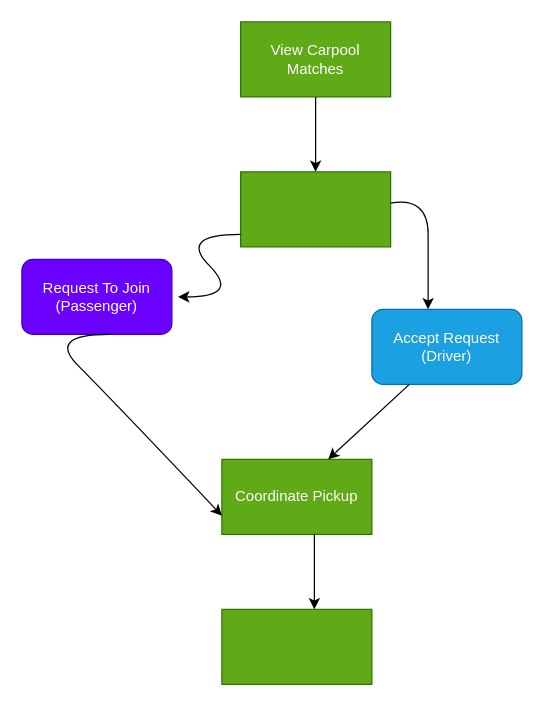
The diagram is 544 pixels wide and 706 high, and some of its shapes have lost their labels. The centre of each missing label's shape, as x and y in pixels:
"Commute to work" belongs at pixel 296 646.
"See Nearby Carpools" belongs at pixel 315 209.
